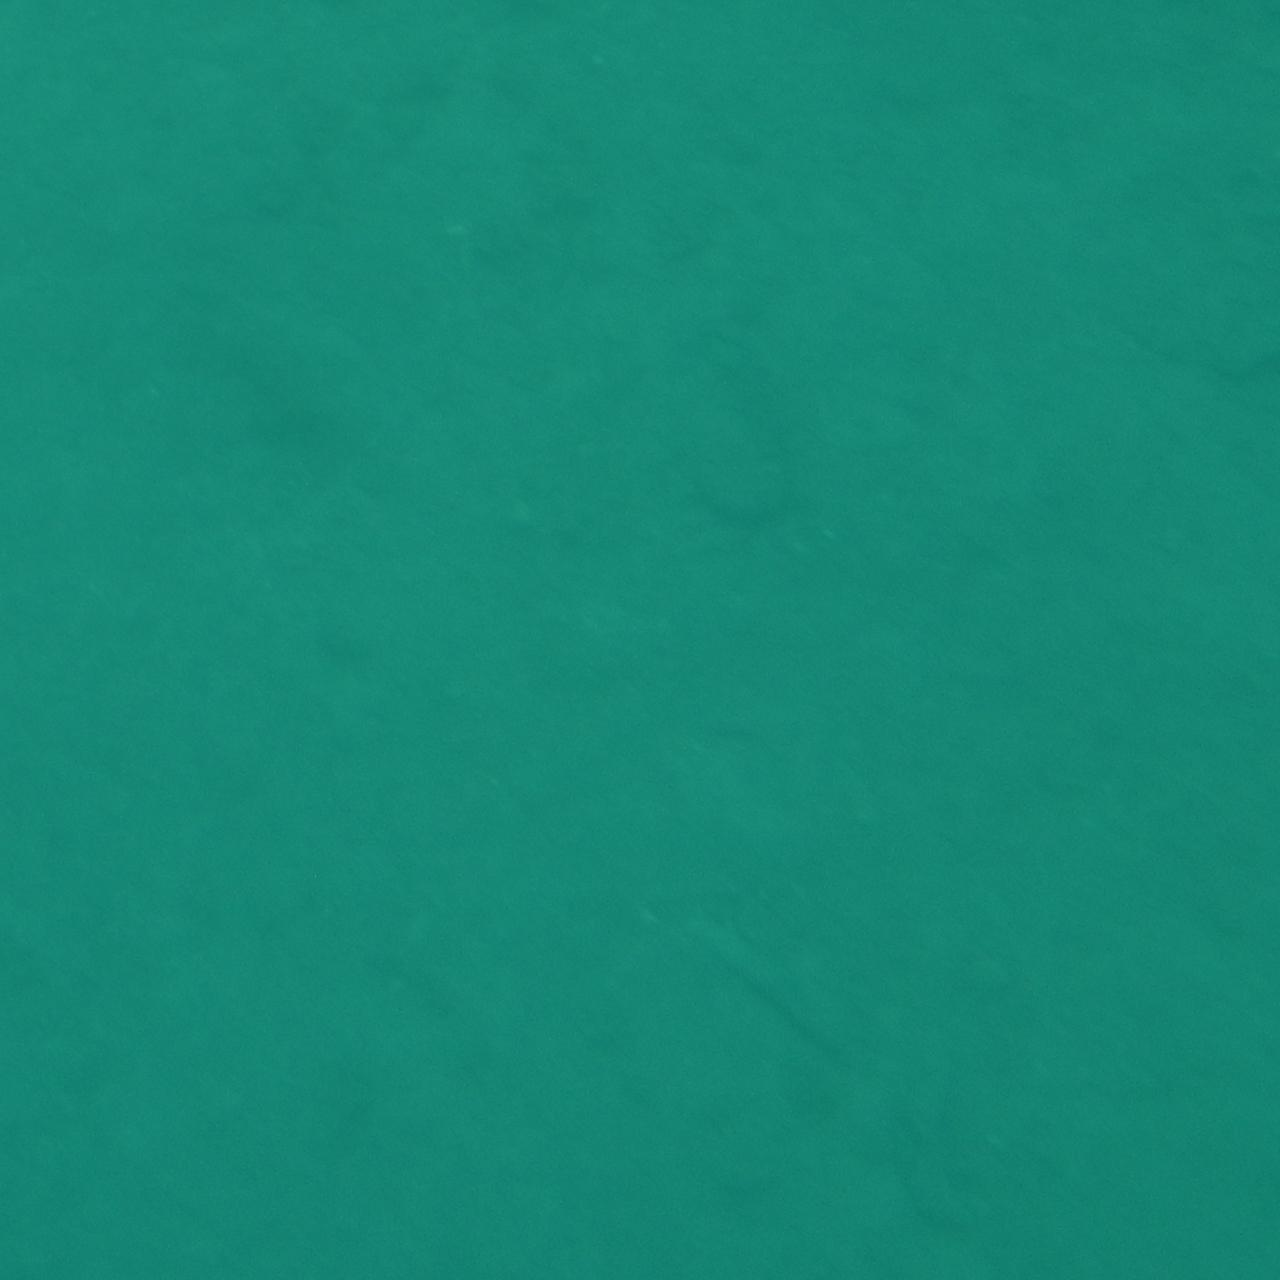Holothuria tubulosa: (679, 886, 915, 1099), (1112, 229, 1280, 425), (0, 1074, 165, 1234)
